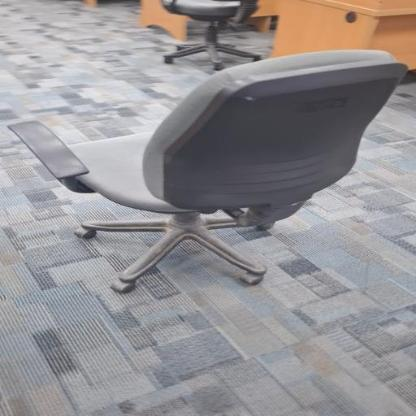chair: (2, 41, 416, 300)
